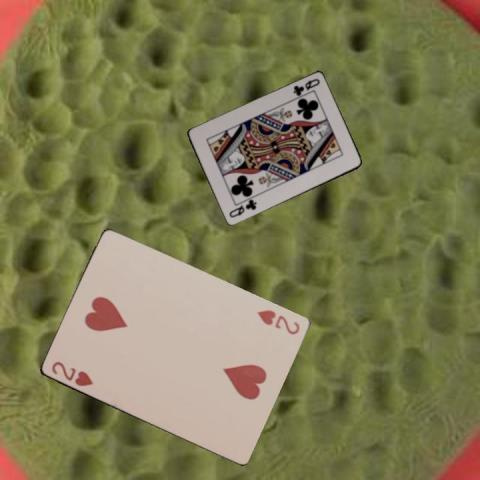2h: (253, 306, 302, 336), (48, 358, 95, 388)
Qc: (226, 197, 258, 219), (290, 76, 321, 98)
